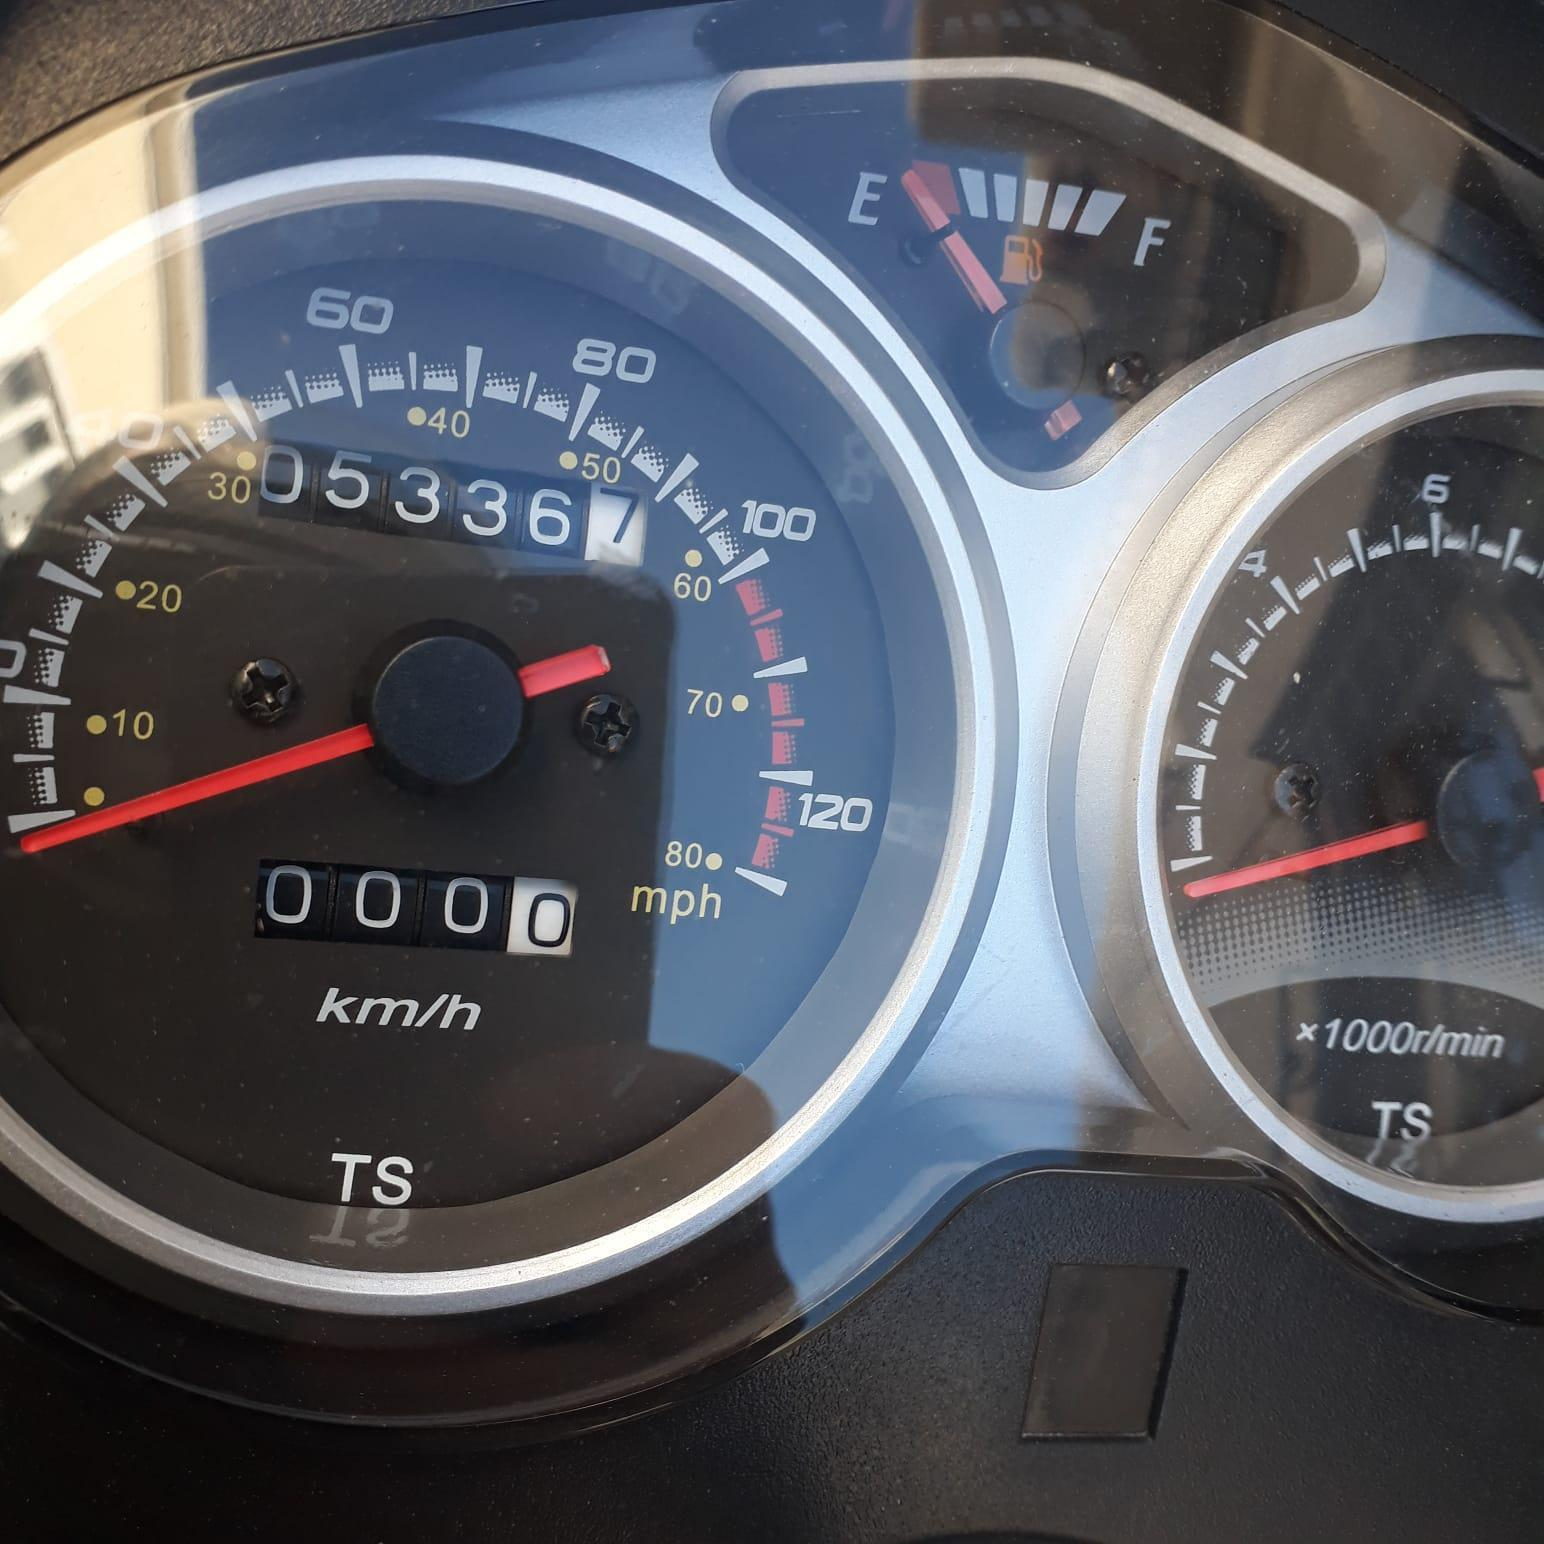0: (257, 443, 304, 503), (602, 455, 621, 484)
3: (460, 478, 508, 537), (394, 465, 440, 525)
5: (324, 448, 375, 510), (580, 451, 601, 481)
6: (527, 488, 573, 546)
7: (598, 486, 641, 544)
odometer: (253, 434, 652, 571)
